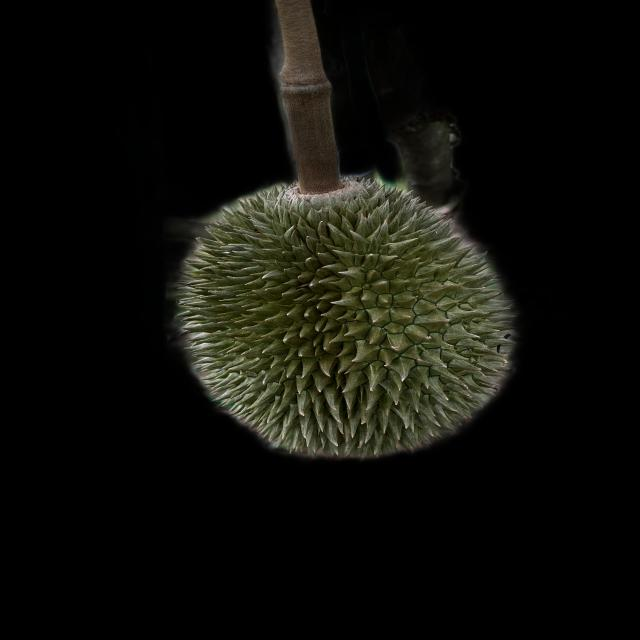immature: (181, 177, 523, 465)
